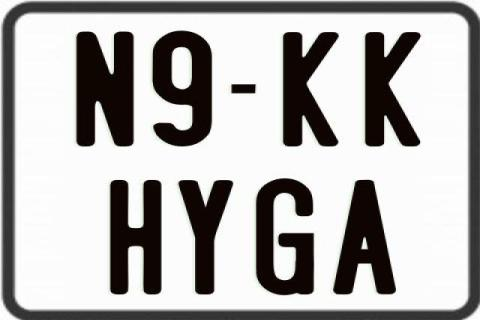0: (149, 29, 209, 147)
A: (333, 180, 399, 298)
G: (253, 176, 315, 294)
H: (110, 180, 163, 295)
K: (281, 31, 341, 149), (362, 32, 422, 147)
N: (75, 29, 133, 147)
Y: (175, 180, 233, 296)
